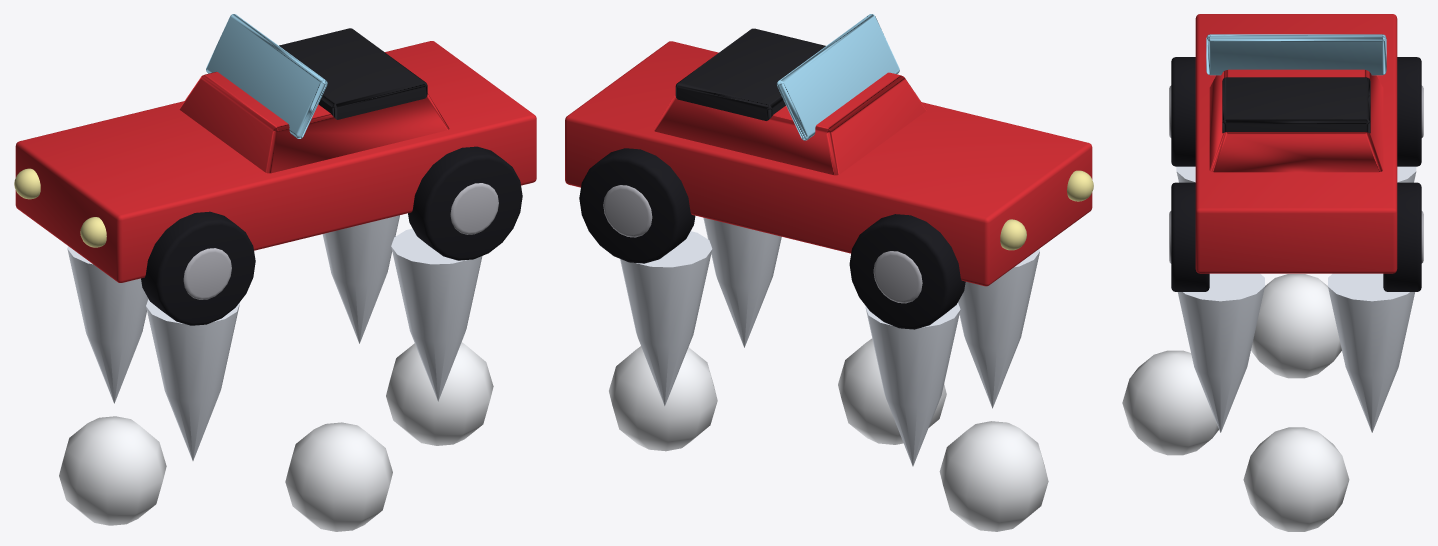
File: roadster_air.glb
3 renders of one model, left to right at view 1: azimuth 30°, elevation 25°; view 2: azimuth 150°, elevation 25°; view 3: azimuth 270°, elevation 25°, orthographic. The views are drawn at different scales.
Parts seen in each view (by area): view 1: roadster_air, wheelz_FD, wheelz_TD; view 2: roadster_air, wheelz_TE, wheelz_FE; view 3: roadster_air, wheelz_FD, wheelz_FE, wheelz_TE, wheelz_TD.
Part boxes in pixels (bbox=[...]): roadster_air: bbox=[14, 14, 536, 531]; wheelz_FD: bbox=[408, 146, 522, 260]; wheelz_TD: bbox=[141, 211, 255, 325]; roadster_air: bbox=[565, 14, 1093, 531]; wheelz_TE: bbox=[849, 214, 965, 329]; wheelz_FE: bbox=[579, 148, 695, 263]; roadster_air: bbox=[1122, 14, 1416, 531]; wheelz_FD: bbox=[1169, 182, 1209, 291]; wheelz_FE: bbox=[1383, 182, 1423, 291]; wheelz_TE: bbox=[1397, 57, 1423, 166]; wheelz_TD: bbox=[1169, 57, 1195, 166].
Bounding box in the file's own units: 3.2 × 3.04 × 1.99.
